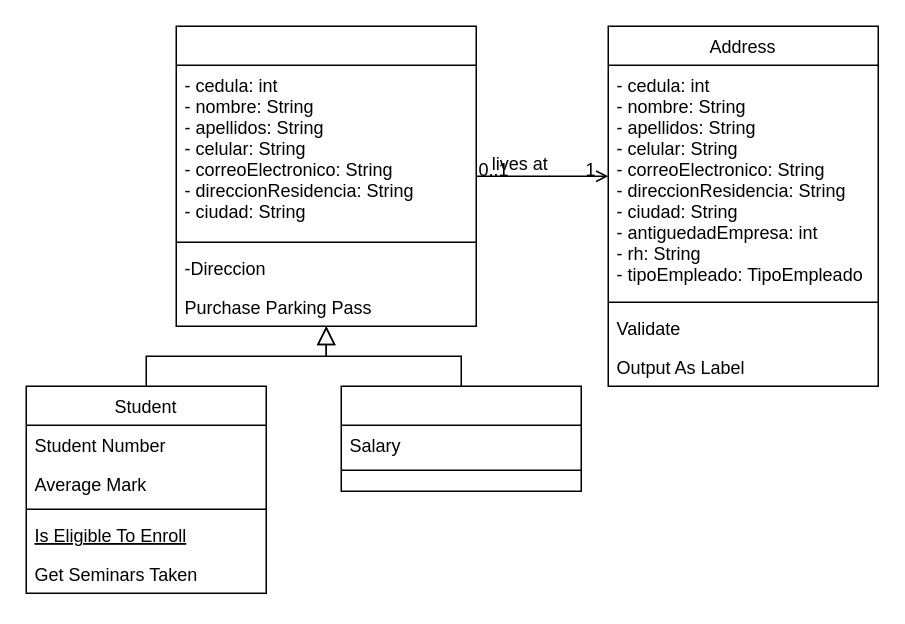
This 905x624 diagram has some shape labels left out. The shapes that lost their labels are listed below. From the top down, each one's box as (x1, y1, x2, y2) in pixels, then its label:
(175, 25, 476, 326): Cliente
(340, 385, 581, 491): Professor
